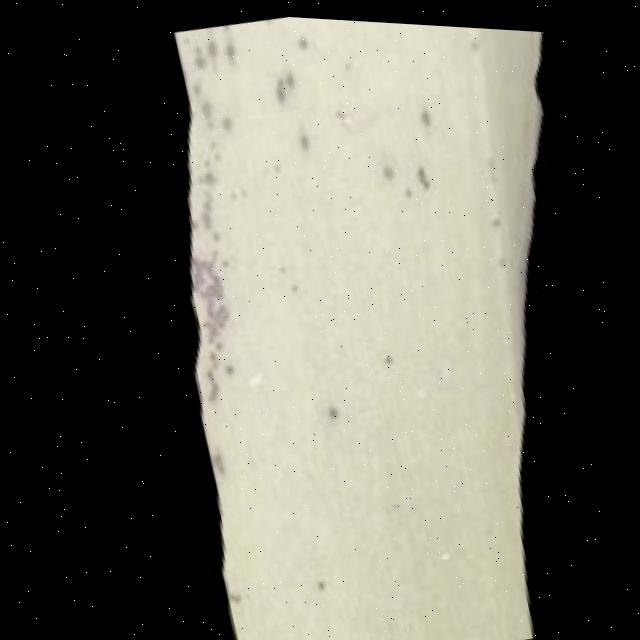mite: (121, 13, 501, 423), (177, 13, 457, 225), (212, 531, 529, 640), (370, 146, 436, 198), (295, 560, 336, 601), (264, 61, 300, 102), (405, 151, 436, 191), (367, 148, 402, 183), (409, 94, 438, 129), (314, 392, 343, 422), (287, 121, 314, 152), (268, 71, 290, 101), (304, 566, 327, 592), (411, 157, 432, 185), (491, 622, 529, 637), (415, 100, 435, 123), (376, 154, 396, 177), (293, 126, 311, 149), (293, 27, 310, 47), (320, 398, 337, 416), (378, 344, 394, 362), (308, 572, 324, 589)
